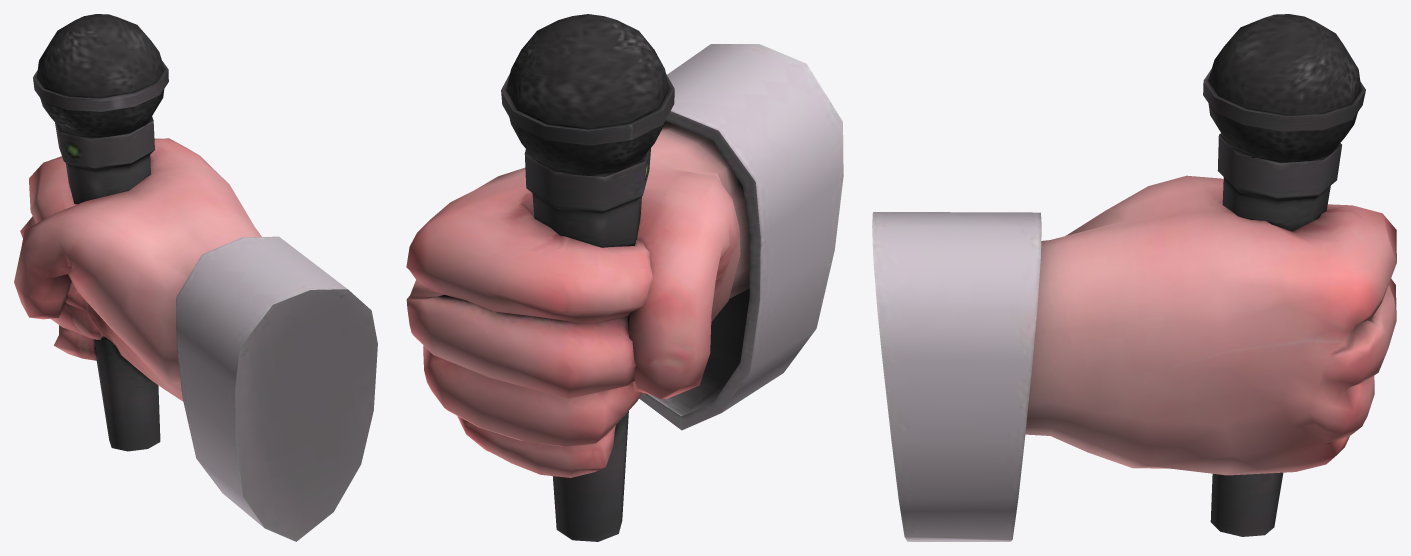
Rendered from avatar1-hand-right.glb.
The picture shows the model from 3 angles, left to right: view 1: azimuth 30°, elevation 25°; view 2: azimuth 150°, elevation 25°; view 3: azimuth 270°, elevation 25°; orthographic projection. The views are drawn at different scales.
Visible parts, largest first — view 1: hand-right; view 2: hand-right; view 3: hand-right.
Part boxes in pixels (x1=…): hand-right: x1=14, y1=14, x2=377, y2=541; hand-right: x1=406, y1=14, x2=843, y2=541; hand-right: x1=872, y1=14, x2=1396, y2=541.
Bounding box in the file's own units: 0.1373 × 0.2705 × 0.2582.
Materials: 1 (1 with a texture image).
